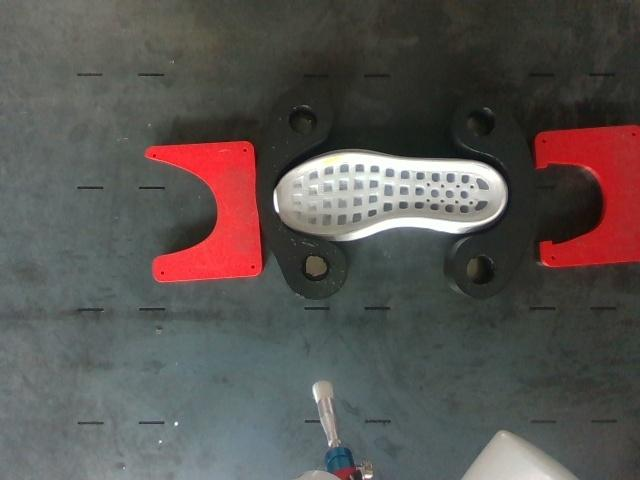shoes: (275, 153, 503, 236)
